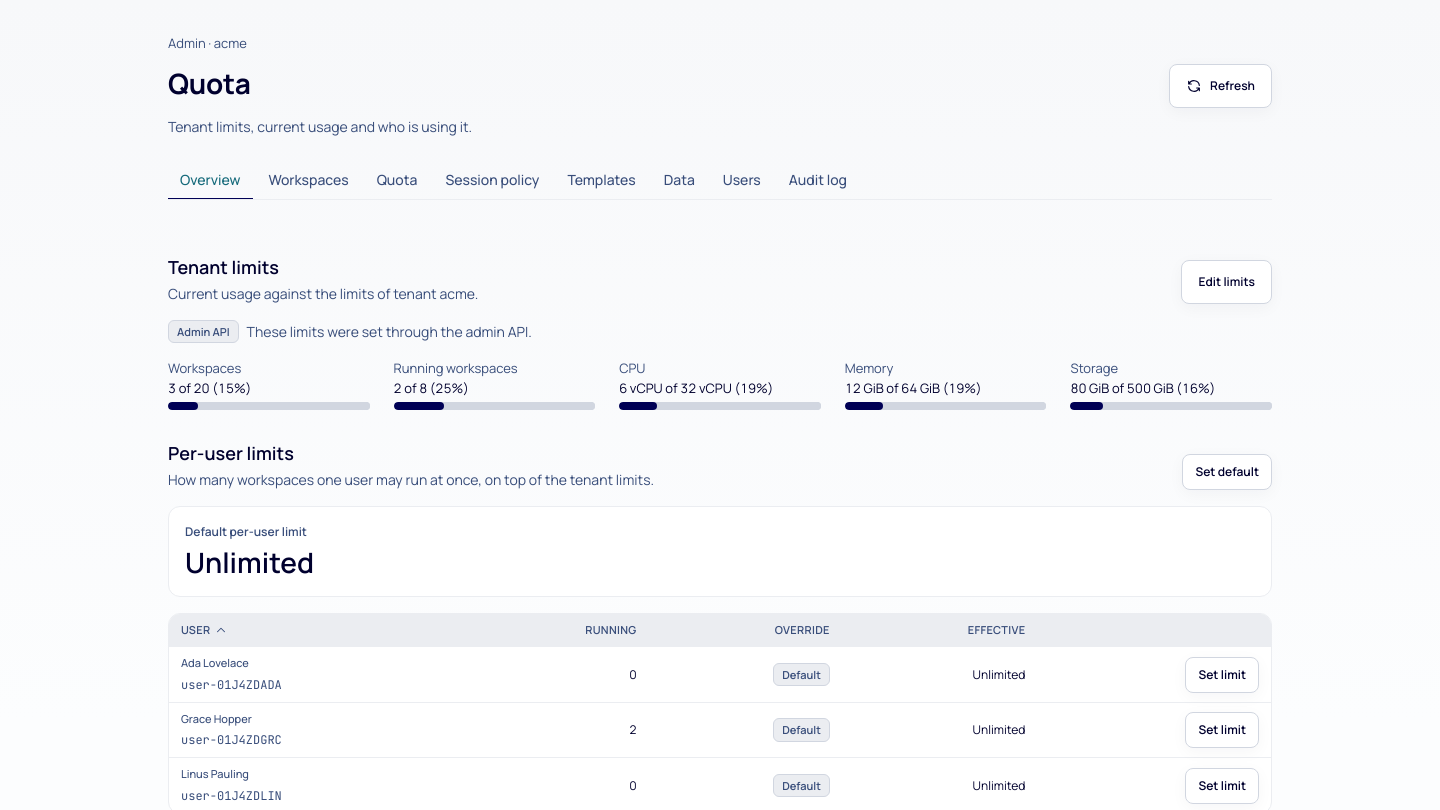
Test: quota: per-user limits › sets and clears the tenant default through the dialog
Check: the element "Default per-user limit" shows "Unlimited", box [185,543,314,581]
Click the button "Set default" at [1227, 472], box [1182,454,1272,490]
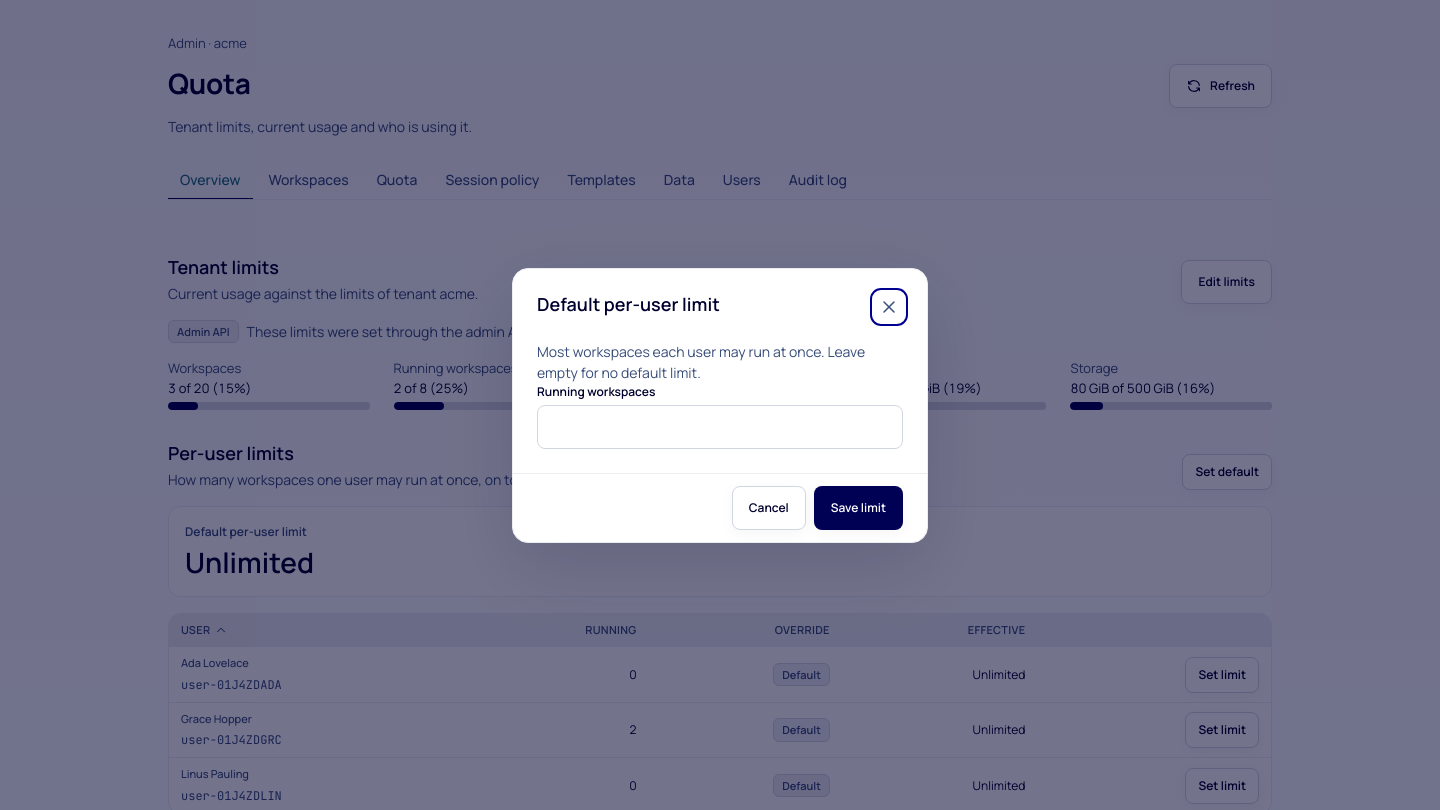
Type "3" into the number field labelled "Running workspaces" at [720, 426], box [537,404,903,448]
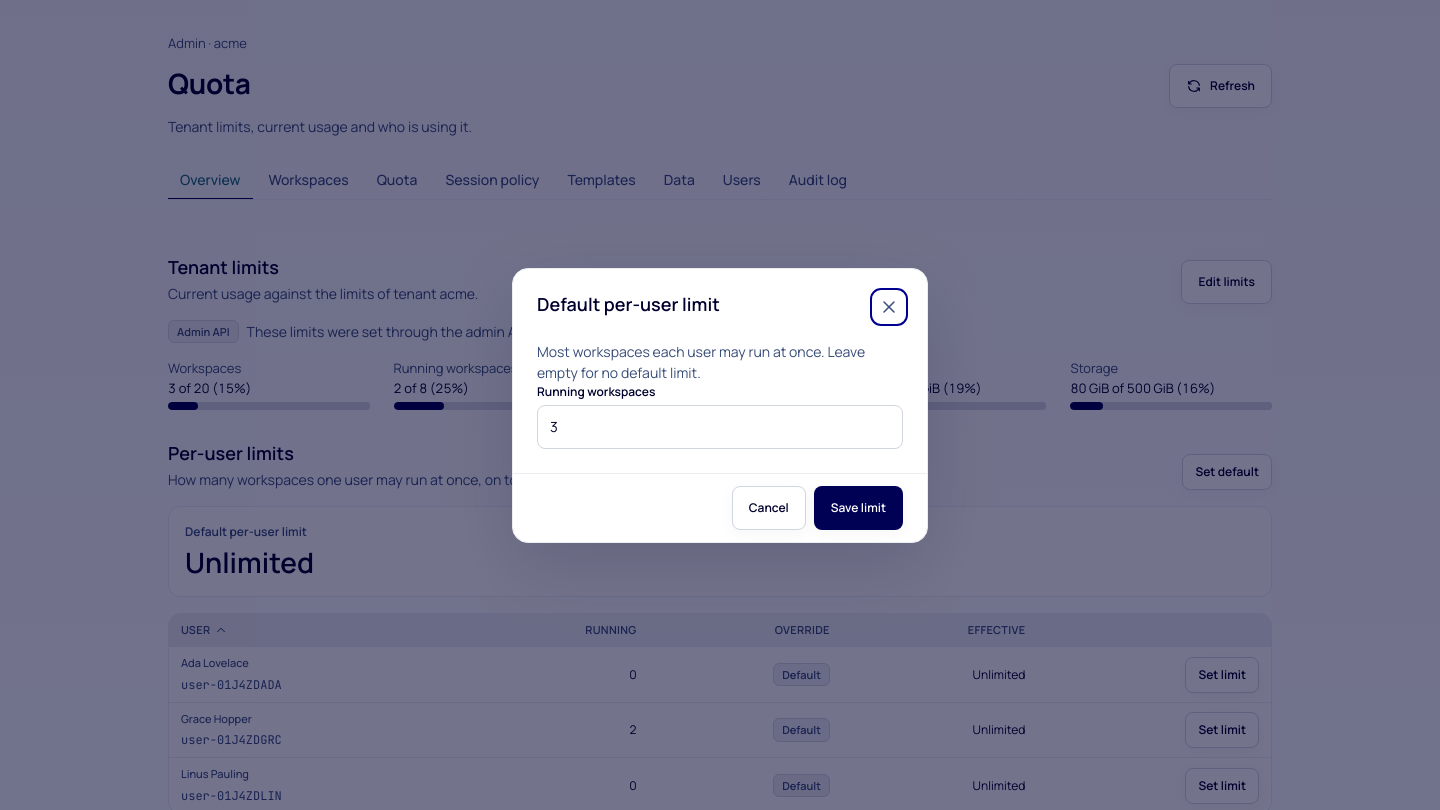
Click the button "Save limit" at [858, 508], box [814,486,903,530]
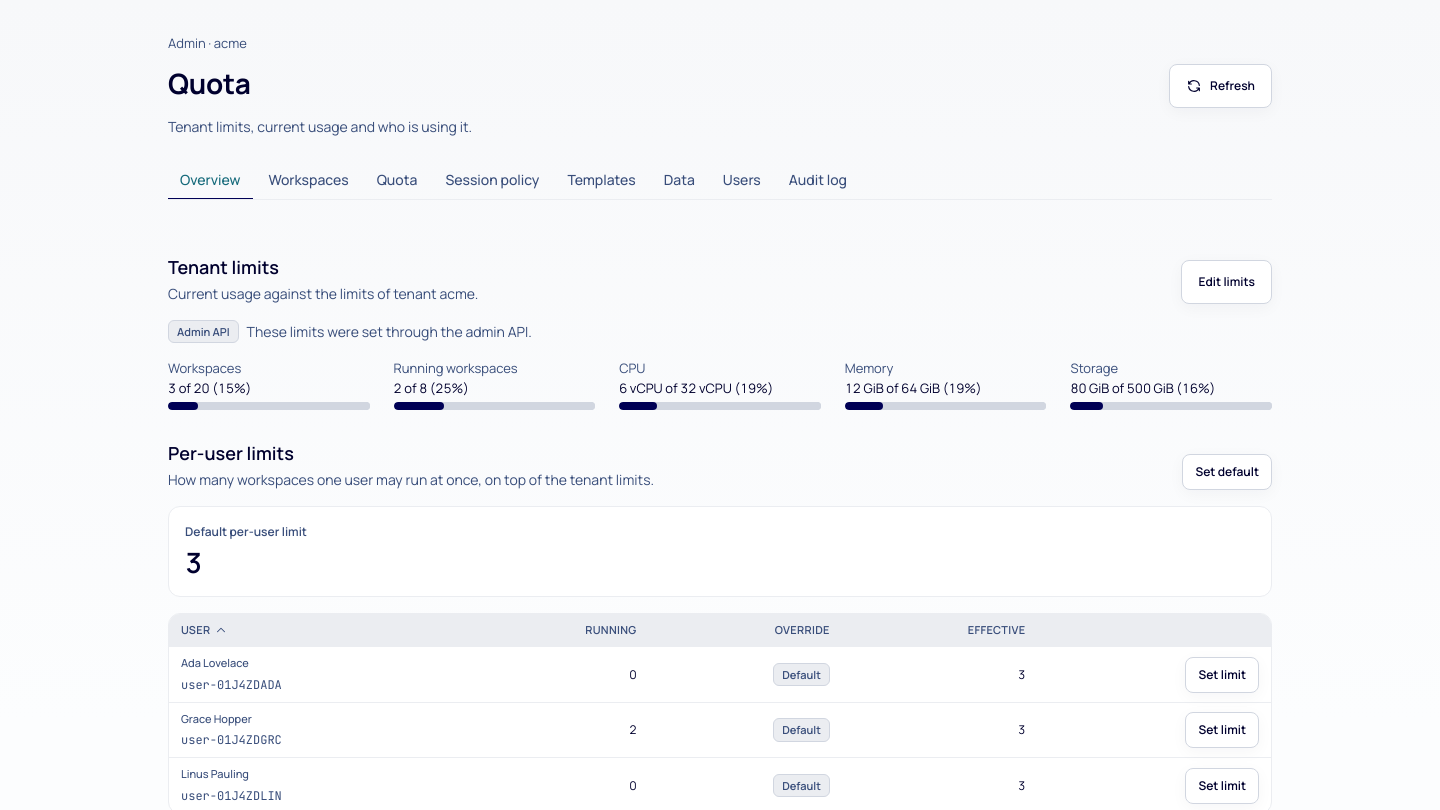
Check: the element "Default per-user limit" shows "3", box [185,543,202,581]
